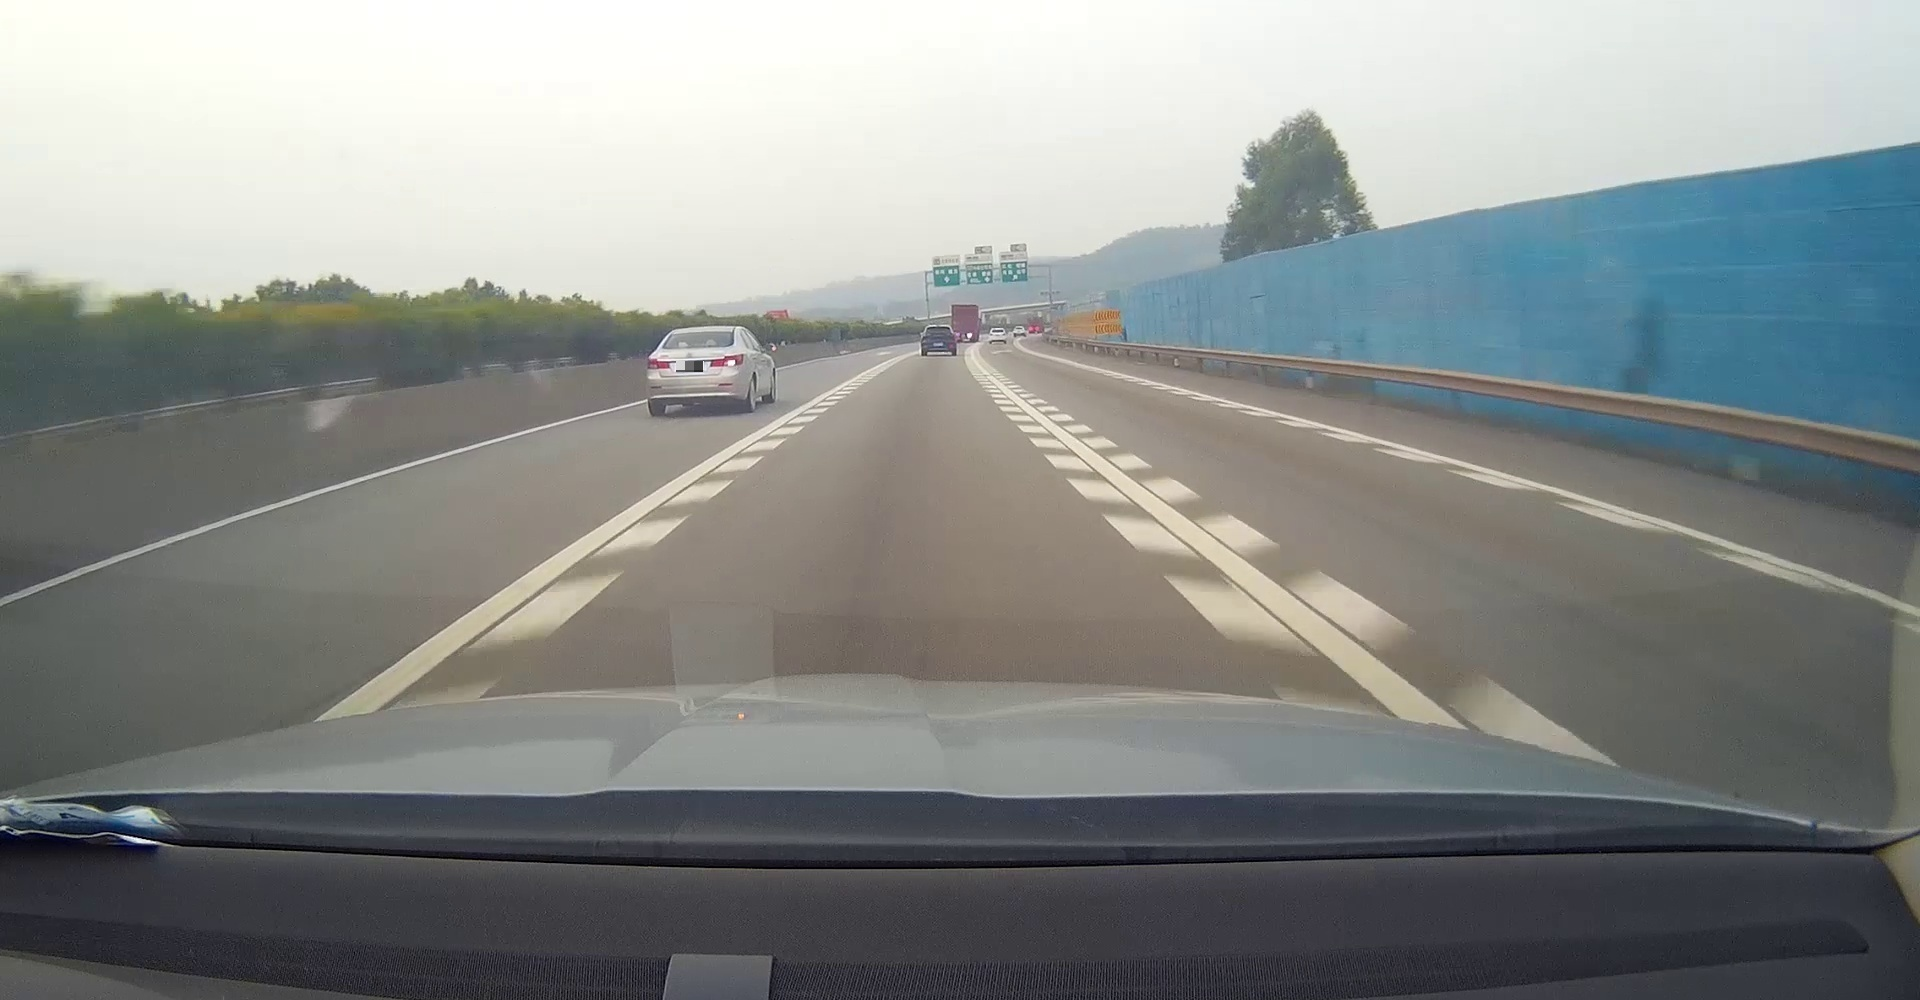L_light: (648, 357, 670, 369), (923, 335, 930, 339)
R_light: (710, 354, 743, 367), (949, 334, 955, 338)
T_light: (693, 330, 706, 332), (936, 326, 941, 327)
day-no: (919, 325, 957, 357)
day-right: (646, 325, 745, 416)
plate_1: (676, 360, 703, 372)
